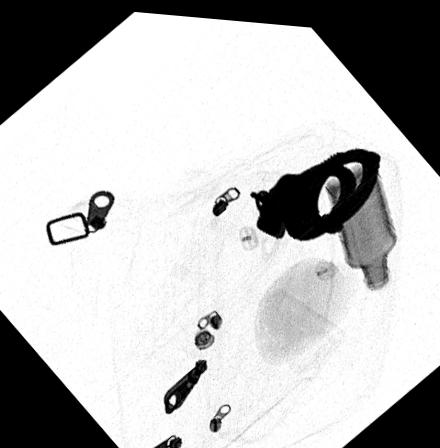HandCuffs: (246, 139, 381, 236)
